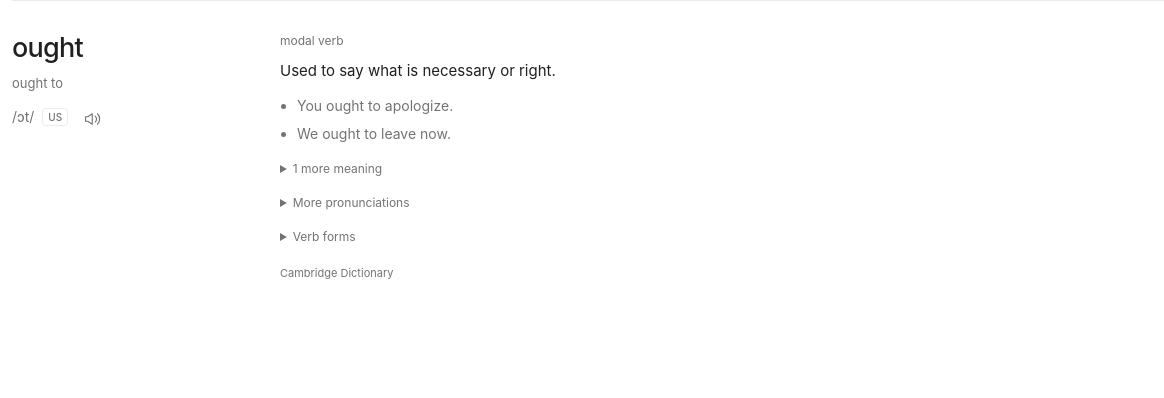
Test: displays requested word, canonical phrase, US IPA and every sense/example
expect the heading "ought" is shown: met, box [12, 31, 83, 65]
expect the text "ought to" is shown: met, box [12, 75, 63, 91]
Step 1. Click the heading "1 more meaning" → (337, 169), box [293, 161, 382, 176]
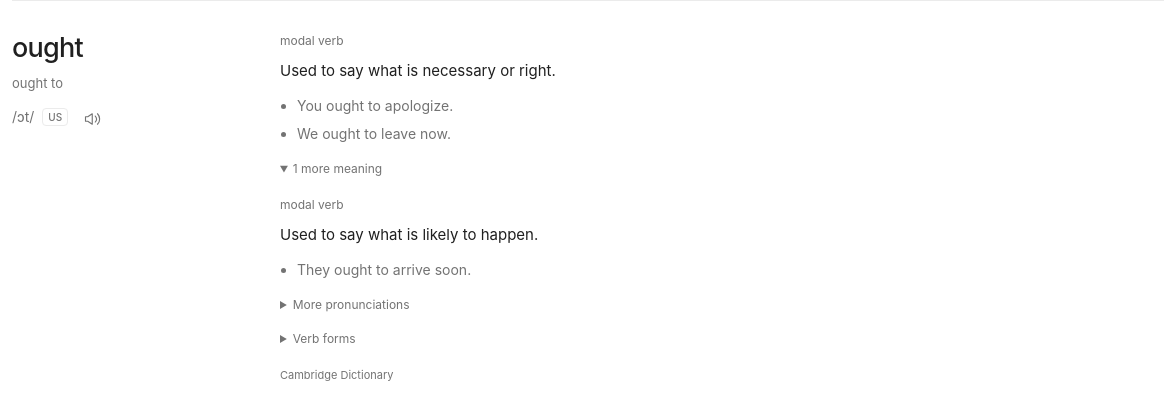
expect the text "Used to say what is likely to happen." is shown: met, box [280, 225, 538, 244]
expect the list item "They ought to arrive soon." is shown: met, box [297, 261, 471, 278]
